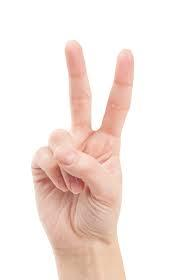peace_sign: (24, 27, 140, 260)
